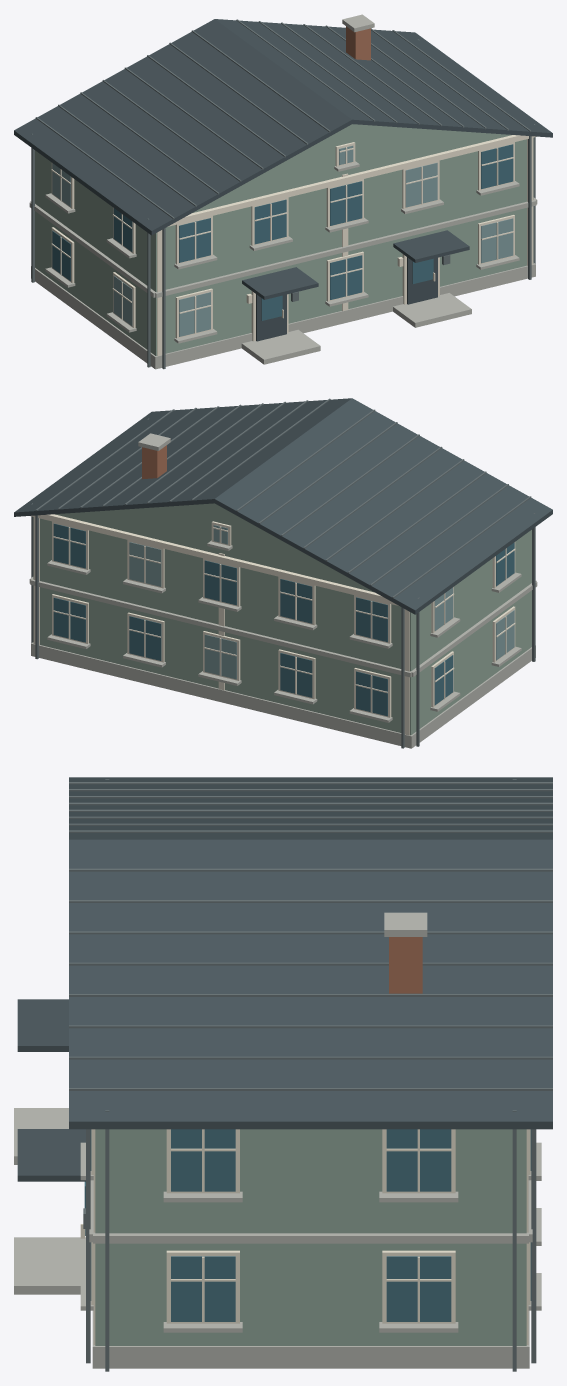
Rendered from DS_House_Townhouse.glb.
3 views of the same model, one above another, from view 1: azimuth 30°, elevation 25°; view 2: azimuth 150°, elevation 25°; view 3: azimuth 270°, elevation 25° (orthographic). The views are drawn at different scales.
Parts seen in each view (by area): view 1: DS_House_Townhouse_LOD0; view 2: DS_House_Townhouse_LOD0; view 3: DS_House_Townhouse_LOD0.
Part boxes in pixels (box(x1,y1,x2,y2)): DS_House_Townhouse_LOD0: box(14, 14, 552, 369); DS_House_Townhouse_LOD0: box(14, 398, 552, 748); DS_House_Townhouse_LOD0: box(14, 777, 552, 1371).
Bounding box in the file's own units: 17 × 8.56 × 11.25.
